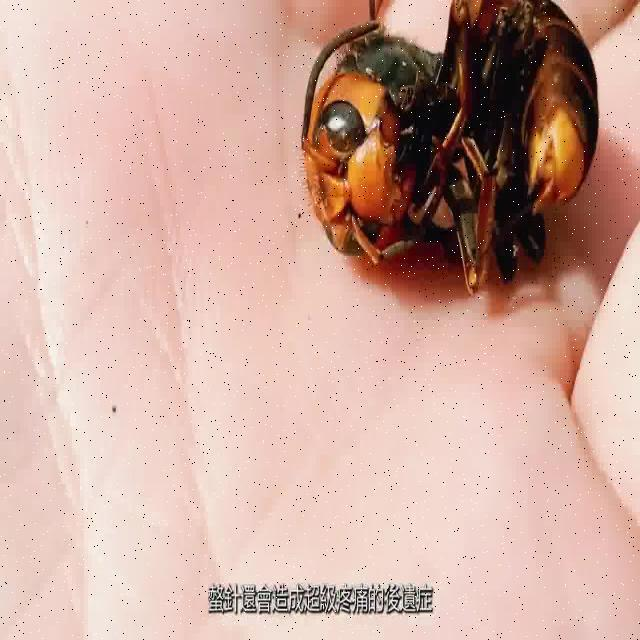Wasp: (300, 0, 610, 292)
